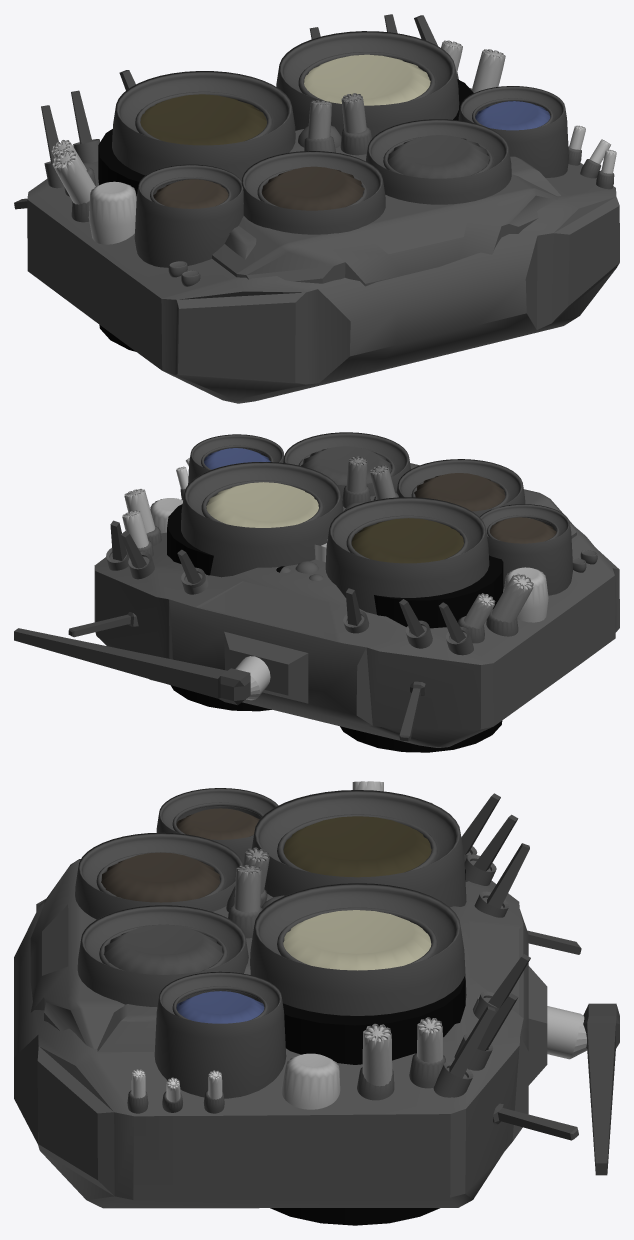
File: remotecontroller.fbx
3 views of the same model, one above another, from view 1: azimuth 30°, elevation 25°; view 2: azimuth 150°, elevation 25°; view 3: azimuth 270°, elevation 25° (orthographic). The views are drawn at different scales.
Visible parts, largest first — view 1: pCube14, pCube29, pCylinder113, pCylinder114, pCylinder112, pCylinder116, pCylinder115, pCylinder107, pCylinder106, pCylinder60, pCylinder109, pCylinder108 (+10 smaller); view 2: pCube14, pCylinder113, pCylinder114, pCube17, pCylinder137, pCylinder112, pCylinder106, pCylinder107, pCylinder116, pCylinder115, pCylinder109, pCylinder32 (+24 smaller); view 3: pCube14, pCylinder114, pCylinder60, pCylinder113, pCylinder32, pCube29, pCylinder115, pCylinder107, pCylinder106, pCylinder116, pCylinder108, pCylinder109 (+21 smaller).
Part boxes in pixels (x1=…): pCube14: x1=27, y1=88, x2=619, y2=403; pCube29: x1=212, y1=174, x2=558, y2=286; pCylinder113: x1=112, y1=71, x2=295, y2=180; pCylinder114: x1=276, y1=31, x2=459, y2=138; pCylinder112: x1=134, y1=164, x2=243, y2=267; pCylinder116: x1=241, y1=151, x2=385, y2=234; pCylinder115: x1=366, y1=119, x2=511, y2=204; pCylinder107: x1=140, y1=94, x2=266, y2=145; pCylinder106: x1=304, y1=54, x2=430, y2=105; pCylinder60: x1=458, y1=86, x2=568, y2=177; pCylinder109: x1=262, y1=166, x2=364, y2=210; pCylinder108: x1=387, y1=135, x2=489, y2=178; pCube14: x1=94, y1=499, x2=619, y2=747; pCylinder113: x1=325, y1=497, x2=489, y2=614; pCylinder114: x1=181, y1=462, x2=343, y2=577; pCube17: x1=14, y1=628, x2=250, y2=705; pCylinder137: x1=340, y1=555, x2=503, y2=752; pCylinder112: x1=480, y1=504, x2=572, y2=595; pCylinder106: x1=206, y1=482, x2=318, y2=527; pCylinder107: x1=351, y1=518, x2=463, y2=563; pCylinder116: x1=396, y1=459, x2=525, y2=516; pCylinder115: x1=283, y1=432, x2=410, y2=498; pCylinder109: x1=414, y1=473, x2=505, y2=511; pCylinder32: x1=167, y1=504, x2=271, y2=711; pCube14: x1=14, y1=880, x2=547, y2=1208; pCylinder114: x1=250, y1=883, x2=466, y2=1015; pCylinder60: x1=154, y1=971, x2=286, y2=1098; pCylinder113: x1=252, y1=790, x2=466, y2=907; pCylinder32: x1=270, y1=976, x2=465, y2=1225; pCube29: x1=30, y1=859, x2=124, y2=1048; pCylinder115: x1=77, y1=905, x2=248, y2=1006; pCylinder107: x1=283, y1=816, x2=431, y2=877; pCylinder106: x1=283, y1=910, x2=431, y2=970; pCylinder116: x1=75, y1=832, x2=242, y2=919; pCylinder108: x1=103, y1=924, x2=223, y2=974; pCylinder109: x1=101, y1=852, x2=220, y2=902.
Size of the model in its own units: 34.87 by 15.85 by 32.49.
